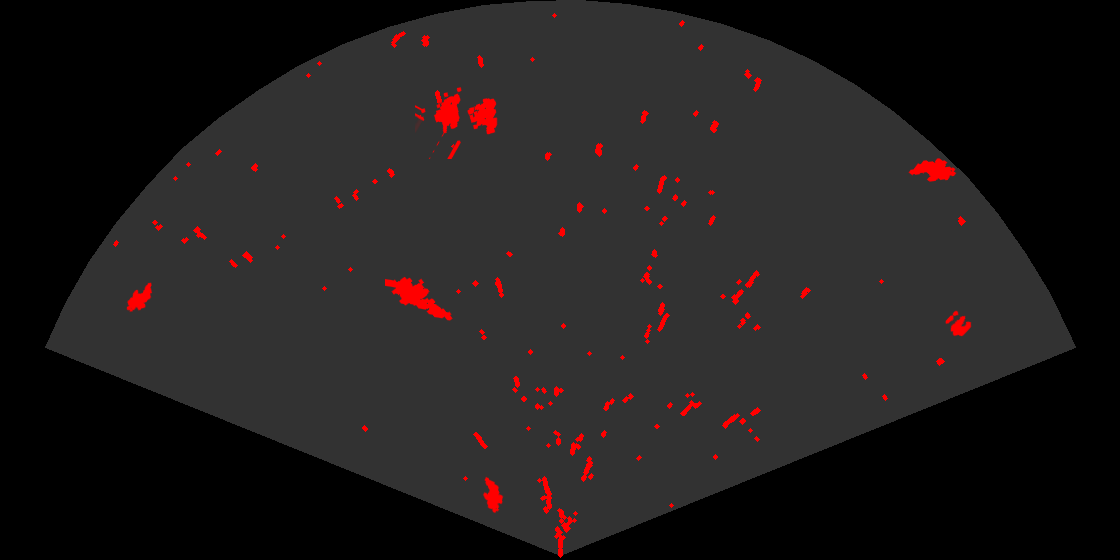AUV: (907, 157, 958, 183), (481, 475, 505, 515), (125, 281, 154, 314)
ball: (944, 309, 973, 338)
cage: (415, 86, 499, 159)
frogman: (385, 275, 454, 322)
